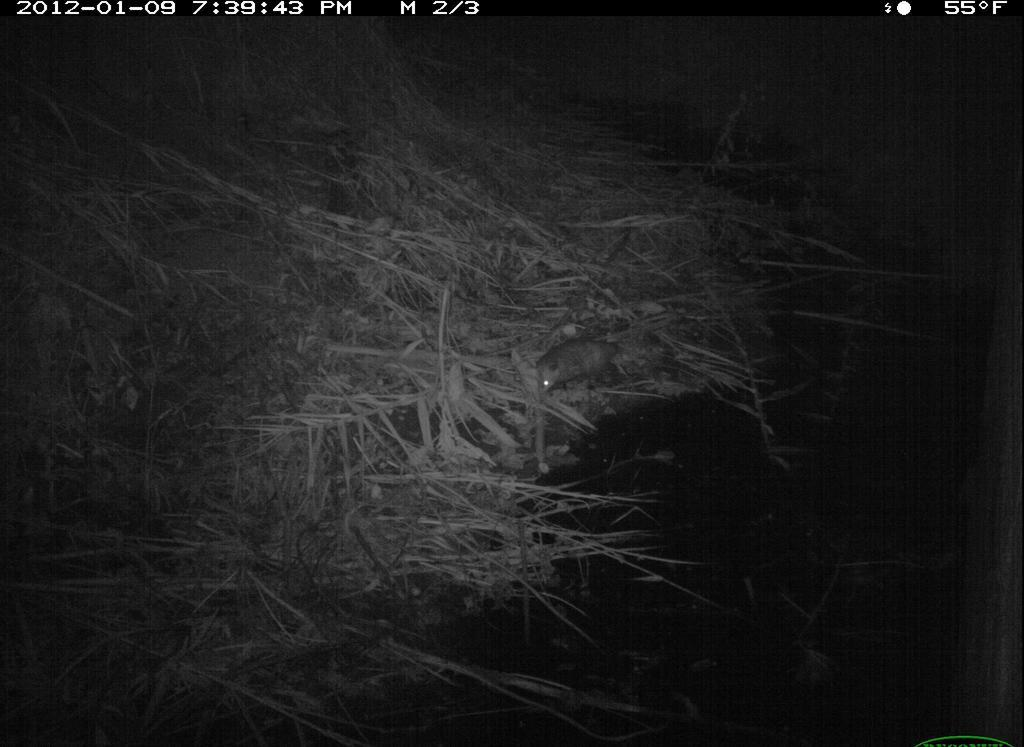opossum: (527, 331, 664, 413)
